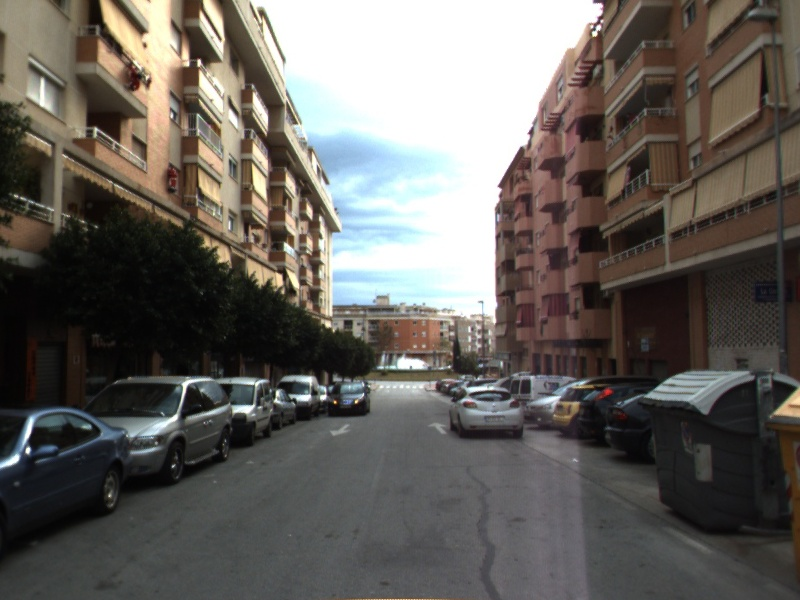STRAIGHT: (426, 420, 449, 436)
